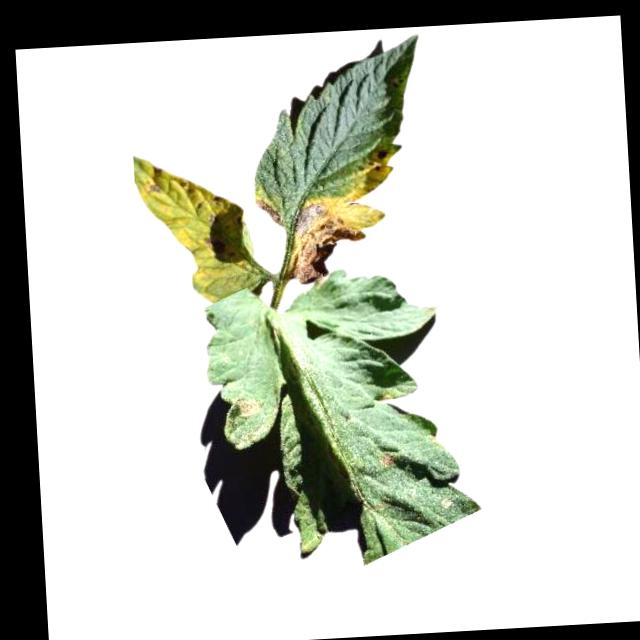Early_blight: (287, 196, 371, 289), (255, 195, 287, 227), (145, 161, 166, 197), (360, 142, 389, 166), (232, 395, 261, 415), (377, 449, 397, 469)
